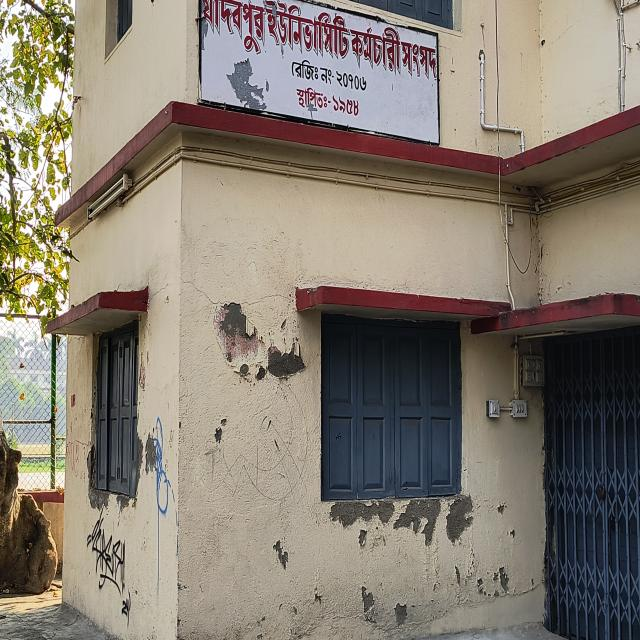Crack: (180, 277, 266, 308), (149, 281, 169, 303), (256, 293, 292, 302)
Graffiti: (223, 381, 308, 501), (88, 519, 125, 594), (152, 417, 170, 516), (66, 440, 91, 476), (121, 590, 131, 625)
Paint Peeling: (214, 302, 305, 380), (393, 499, 440, 545), (227, 59, 266, 111), (329, 500, 395, 528), (446, 496, 473, 543), (476, 566, 510, 596), (455, 547, 475, 585), (361, 586, 375, 622), (199, 0, 208, 50), (273, 540, 288, 569), (394, 602, 407, 626), (214, 419, 227, 443), (497, 503, 505, 512), (508, 529, 515, 539)
Scaling: (87, 443, 110, 509), (136, 424, 143, 490), (145, 435, 156, 474), (116, 495, 132, 511)
